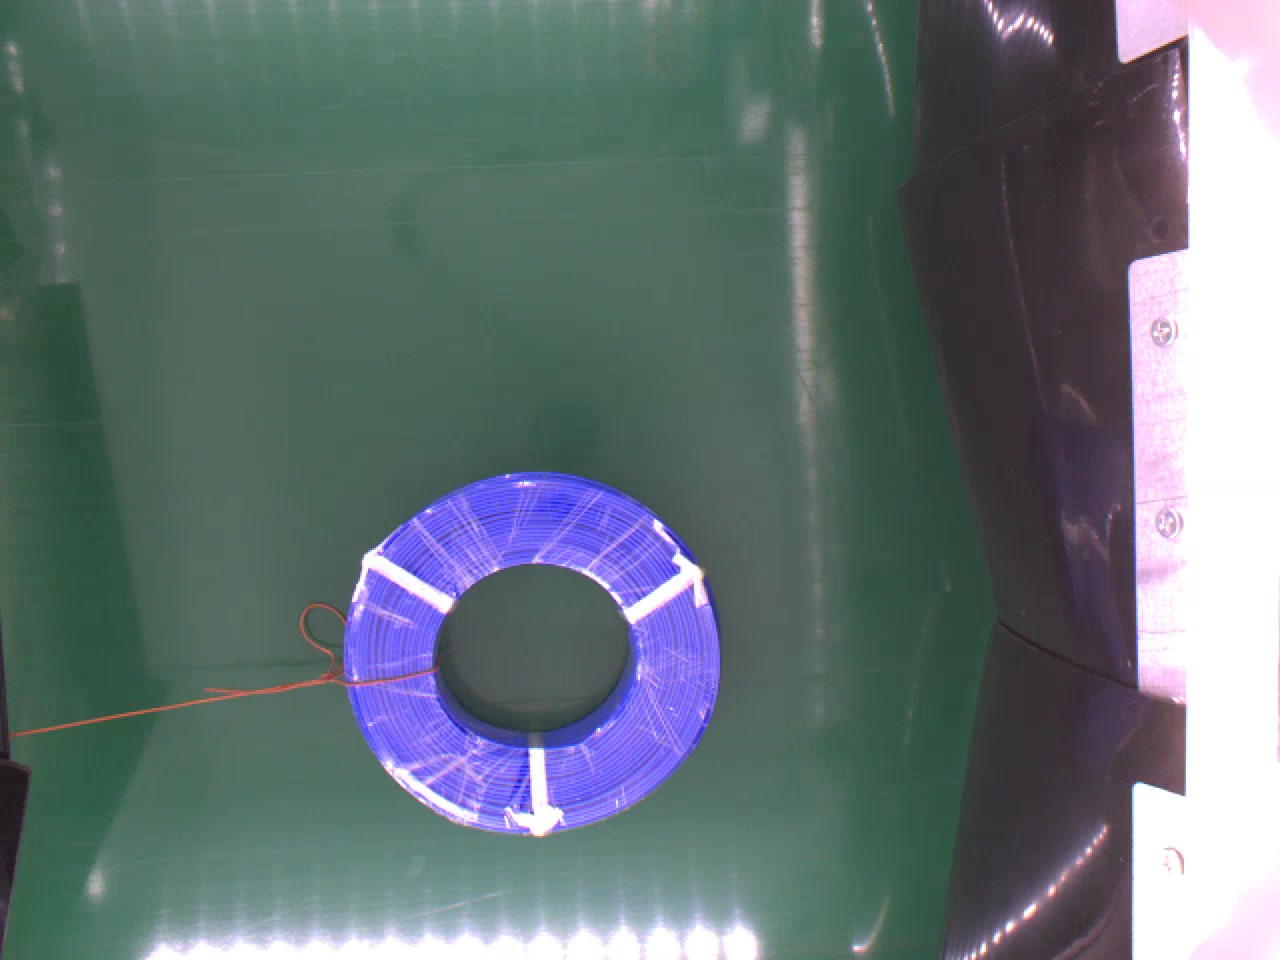blue: (343, 463, 722, 837)
